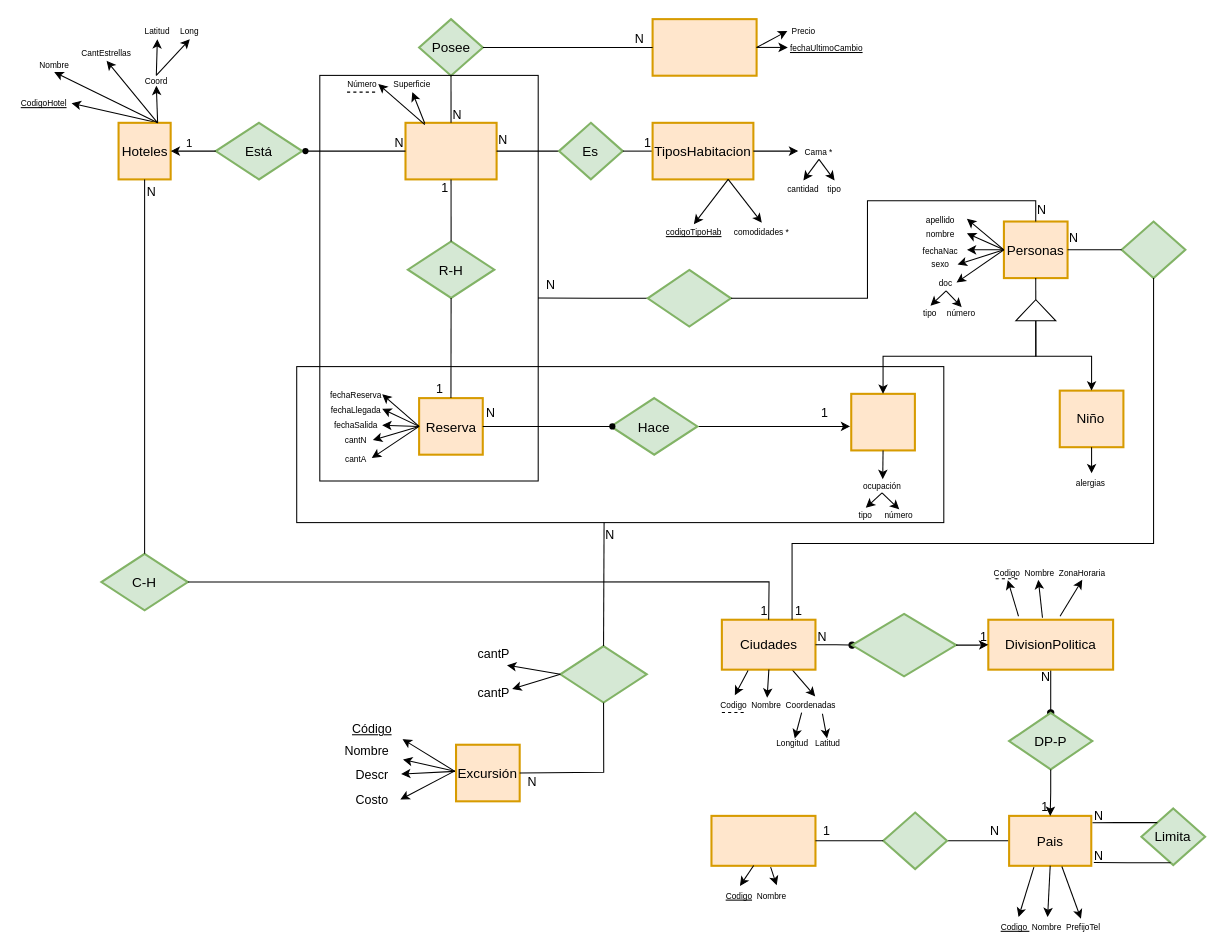
Some shapes in this 1224 by 952 pixel diagram are drawn without their labels. Each missing label, with the centre of its shape:
"Adulto" goes at pixel 882 421.
"Compra" goes at pixel 603 673.
"Continente" goes at pixel 763 840.
"Habitaciones" goes at pixel 450 150.
"P-C" goes at pixel 915 840.
"PecioPorNoche" goes at pixel 704 47.
"Pertenece" goes at pixel 904 644.
"Registra" goes at pixel 688 297.
"Vive" goes at pixel 1153 249.
